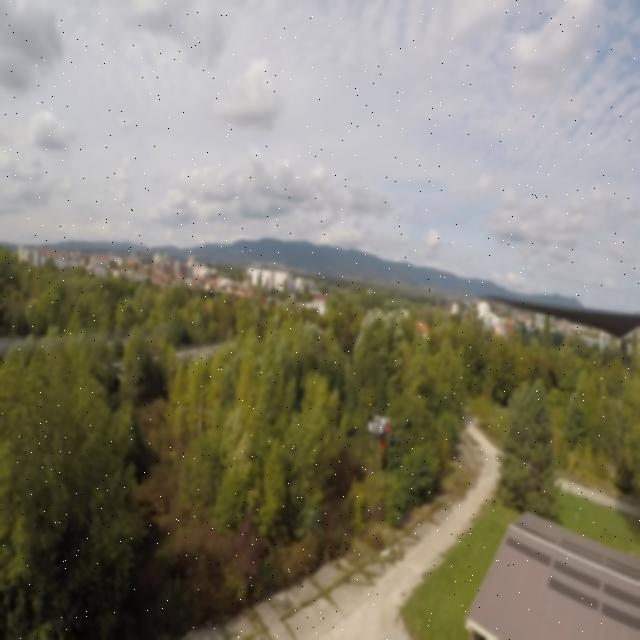UAV: (344, 408, 414, 479)
